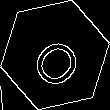O_NE: (22, 22, 88, 88)
